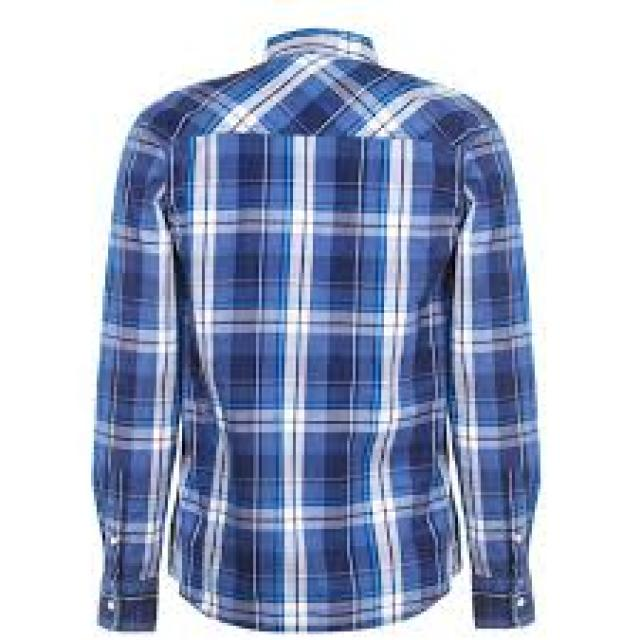plaid: (84, 28, 540, 638)
